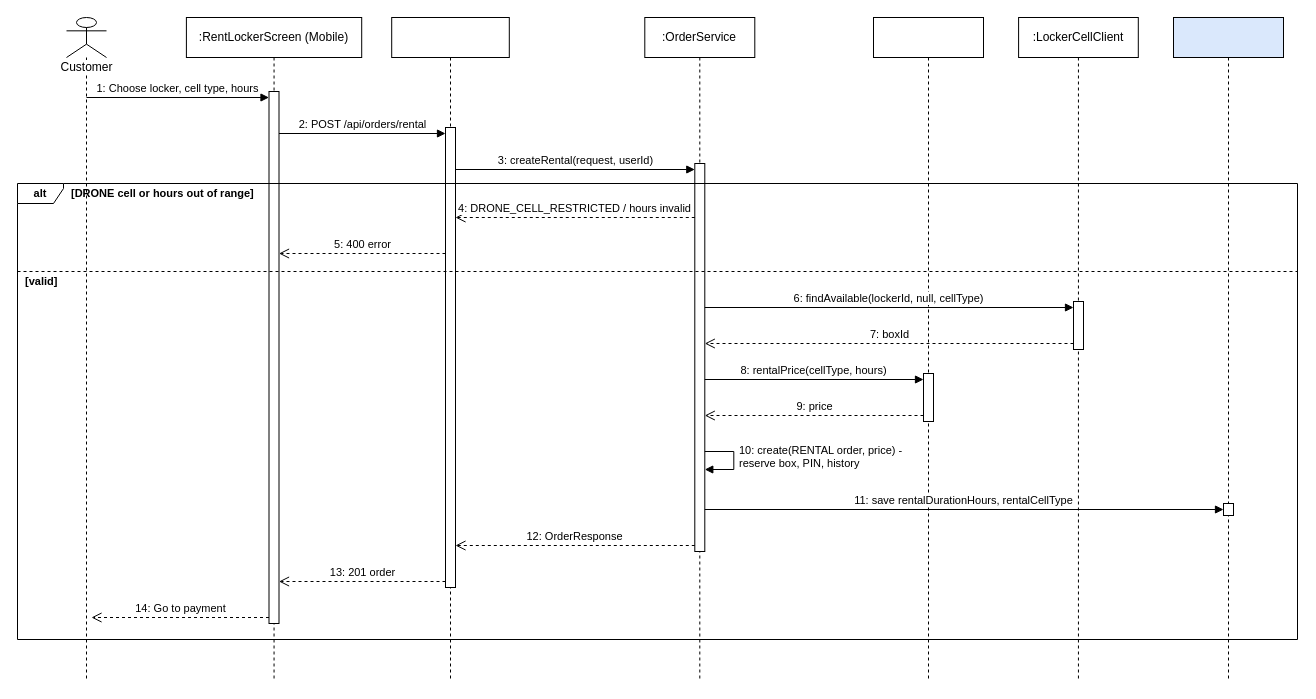
Image size: 1316x699. Some labels were removed from this diagram. Here are the shapes that lost their labels. From the top down, the box of each, then its label:
(391, 16, 509, 682): :OrderController
(872, 16, 984, 682): :OrderRules
(1172, 16, 1284, 682): :order_db
